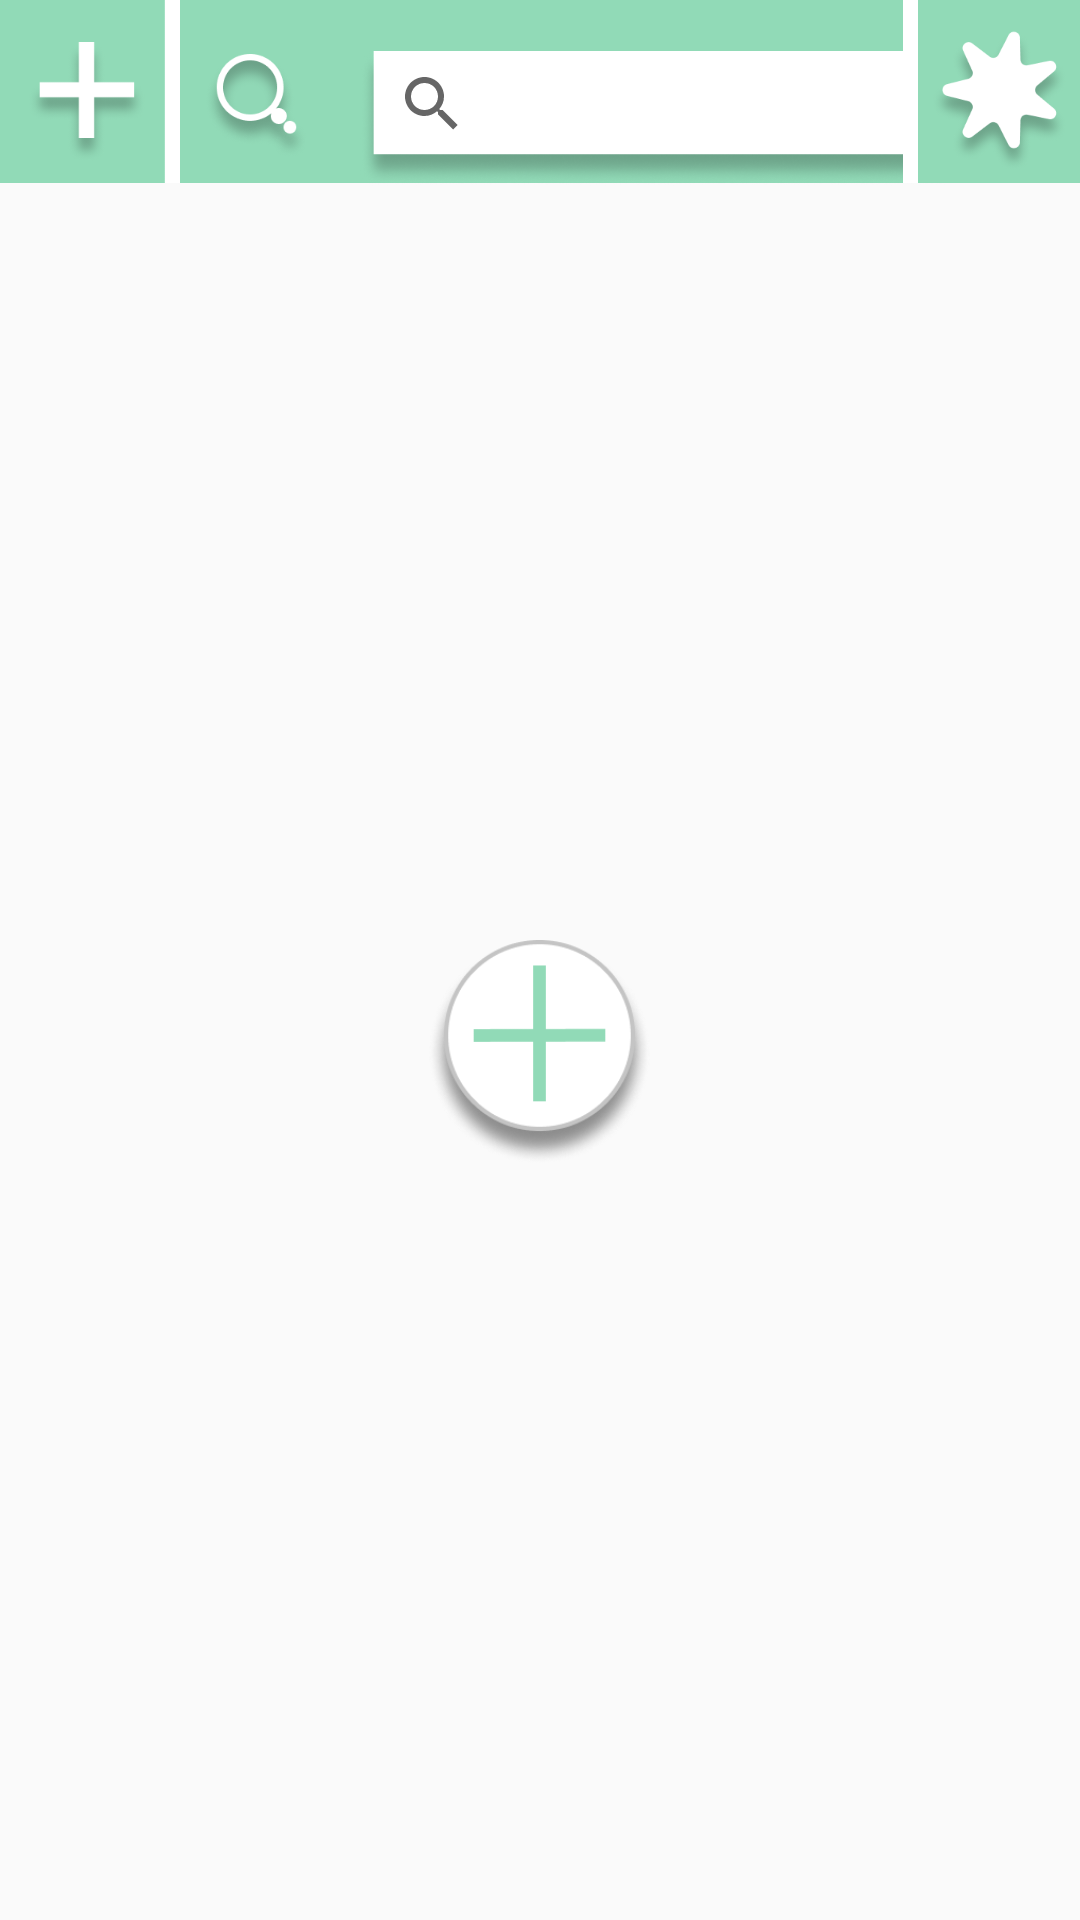

Screen size 1080px x 1920px. Icon name, then its center in pixels as (x=x, y=y):
createplayani: (x=539, y=1047)
